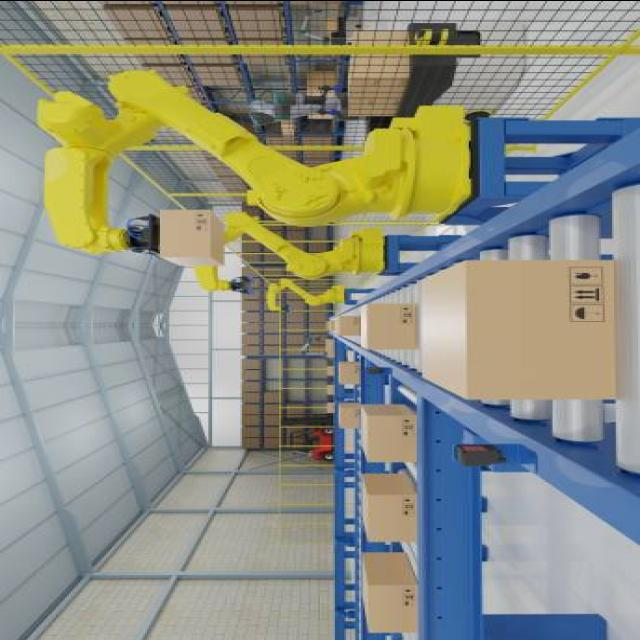Robotic-arm: (20, 69, 482, 258), (211, 210, 381, 288), (262, 277, 352, 314)
